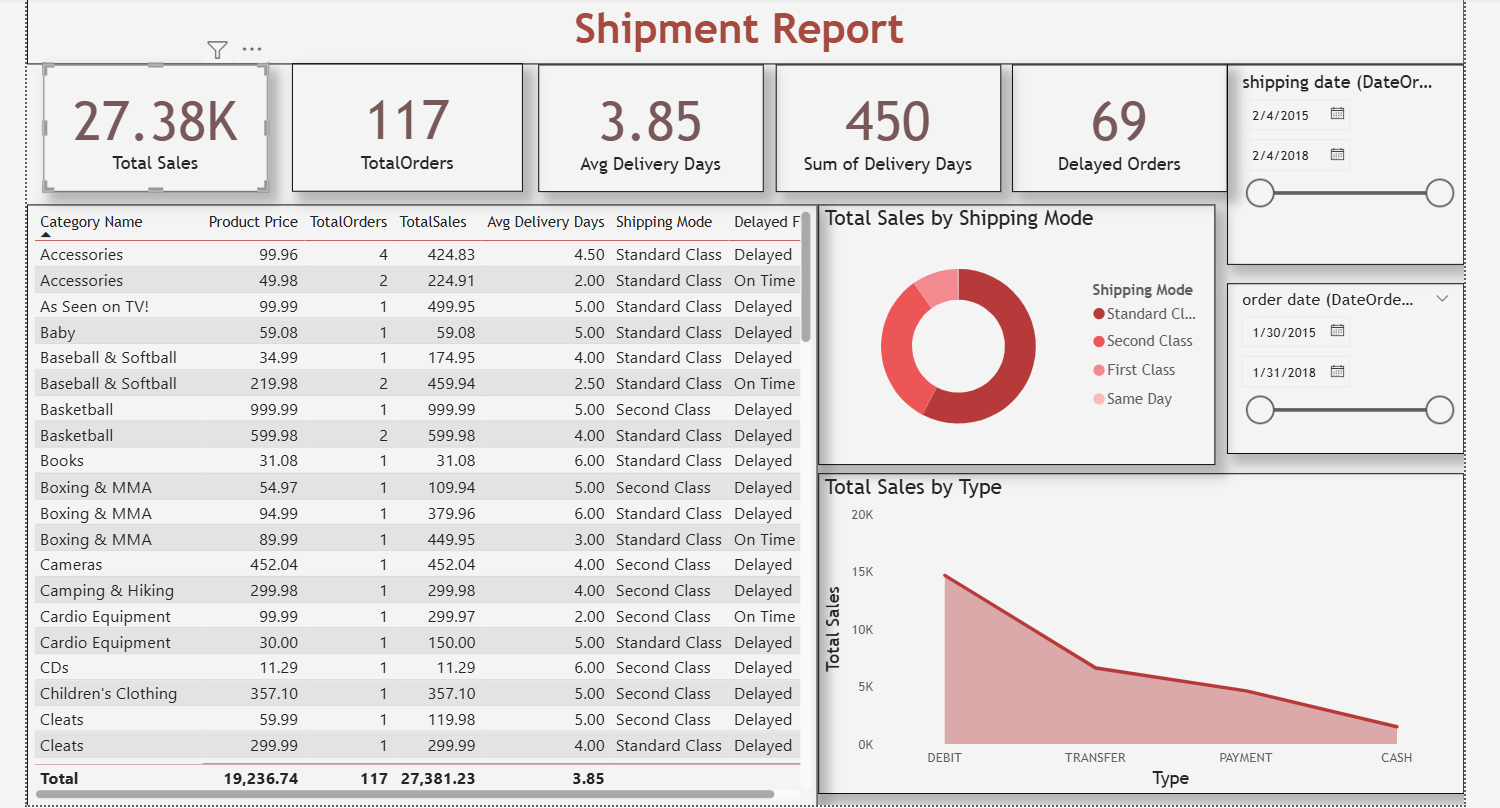

This screenshot's page, from the dashboard's own definition file:
{"tool":"powerbi","page":{"name":"Page 1","canvas":[1280,720],"ordinal":0},"visuals":[{"type":"textbox","box":[0,0,1280.3,59.8],"z":0},{"type":"tableEx","fields":{"Values":["Logistics_data.Category Name","Sum(Logistics_data.Product Price)","Logistics_data.TotalOrders","Logistics_data.Total Sales","Logistics_data.Avg Delivery Days","Logistics_data.Shipping Mode","Logistics_data.Delayed Flag"]},"box":[0,184.5,704.3,536],"z":1000},{"type":"donutChart","fields":{"Y":["Logistics_data.Total Sales"],"Category":["Logistics_data.Shipping Mode"]},"box":[704.3,184.5,377.7,221.9],"z":2000},{"type":"card","fields":{"Values":["Logistics_data.Total Sales"]},"box":[0,58.6,200.7,113.4],"z":3000},{"type":"card","fields":{"Values":["Logistics_data.TotalOrders"]},"box":[235.6,58.6,205.7,114.7],"z":4000},{"type":"card","fields":{"Values":["Logistics_data.Avg Delivery Days"]},"box":[455,59.8,200.7,113.4],"z":5000},{"type":"card","fields":{"Values":["Sum(Logistics_data.Delivery Days)"]},"box":[666.9,59.8,200.7,113.4],"z":6000},{"type":"card","fields":{"Values":["Logistics_data.Delayed Orders"]},"box":[877.6,59.8,192,113.4],"z":7000},{"type":"slicer","fields":{"Values":["Logistics_data.order date (DateOrders)"]},"box":[1082,244.3,198.2,162.1],"z":8000},{"type":"slicer","fields":{"Values":["Logistics_data.shipping date (DateOrders)"]},"box":[1082,68.6,198.2,175.8],"z":9000},{"type":"stackedAreaChart","fields":{"Category":["Logistics_data.Type"],"Y":["Logistics_data.Total Sales"]},"box":[704.3,416.4,575.9,304.2],"z":10000}]}

Visuals, with their boxes in screenshot pixels (x1, y1, x2, y2):
textbox: 35 0 1453 62
tableEx - Logistics_data.Category Name x Sum(Logistics_data.Product Price): 35 200 815 794
donutChart - Logistics_data.Total Sales x Logistics_data.Shipping Mode: 815 200 1233 446
card - Logistics_data.Total Sales: 35 61 257 187
card - Logistics_data.TotalOrders: 296 61 524 188
card - Logistics_data.Avg Delivery Days: 539 62 761 188
card - Sum(Logistics_data.Delivery Days): 774 62 996 188
card - Logistics_data.Delayed Orders: 1007 62 1220 188
slicer - Logistics_data.order date (DateOrders): 1233 267 1453 446
slicer - Logistics_data.shipping date (DateOrders): 1233 72 1453 267
stackedAreaChart - Logistics_data.Type x Logistics_data.Total Sales: 815 457 1453 794
